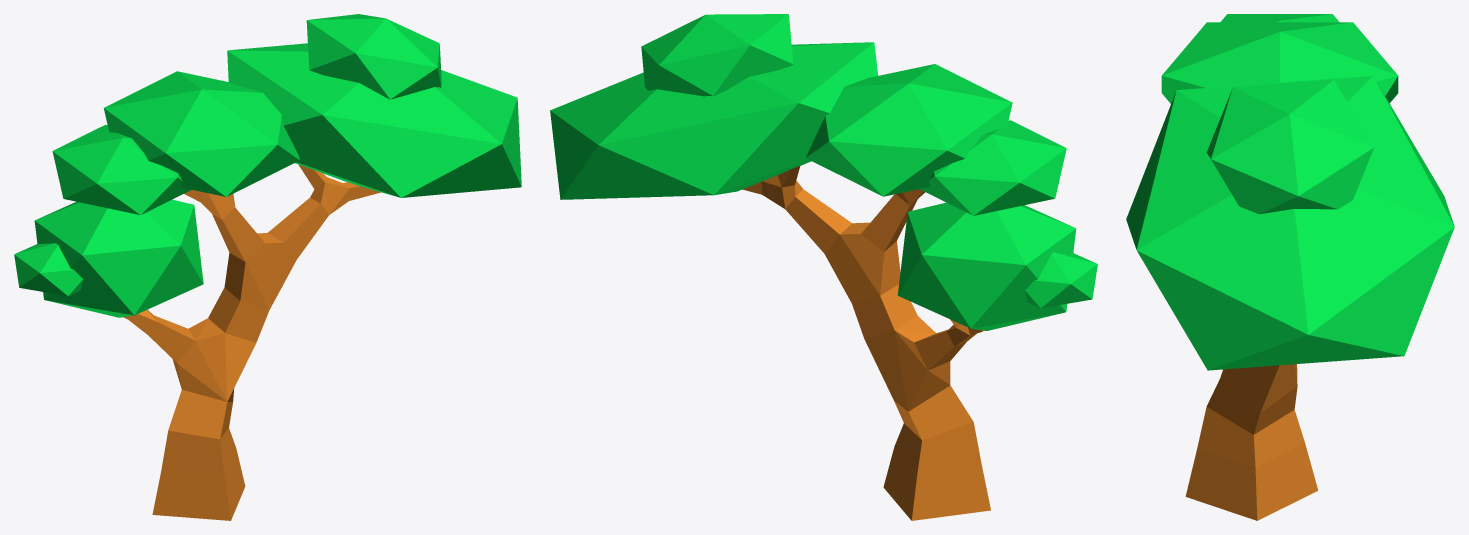
The model's file is Drzewo1.fbx.
3 renders of one model, left to right at view 1: azimuth 30°, elevation 25°; view 2: azimuth 150°, elevation 25°; view 3: azimuth 270°, elevation 25°, orthographic. The views are drawn at different scales.
Visible parts, largest first — view 1: Cube; view 2: Cube; view 3: Cube.
Boxes of the visible parts, <box> form: Cube: <box>14,14,521,520</box>; Cube: <box>550,14,1097,520</box>; Cube: <box>1126,14,1454,520</box>.
Bounding box in the file's own units: 546 × 434 × 260.
